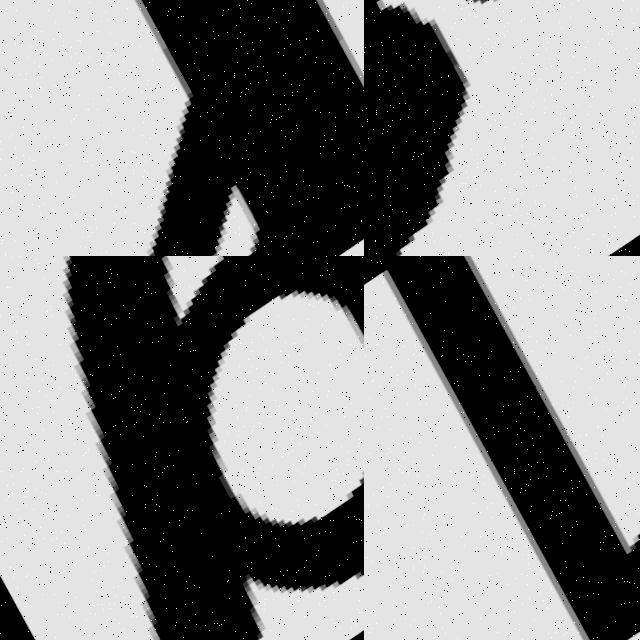1: (364, 256, 640, 640)
G: (0, 256, 364, 640)
S: (364, 0, 640, 256)
X: (0, 0, 364, 256)
